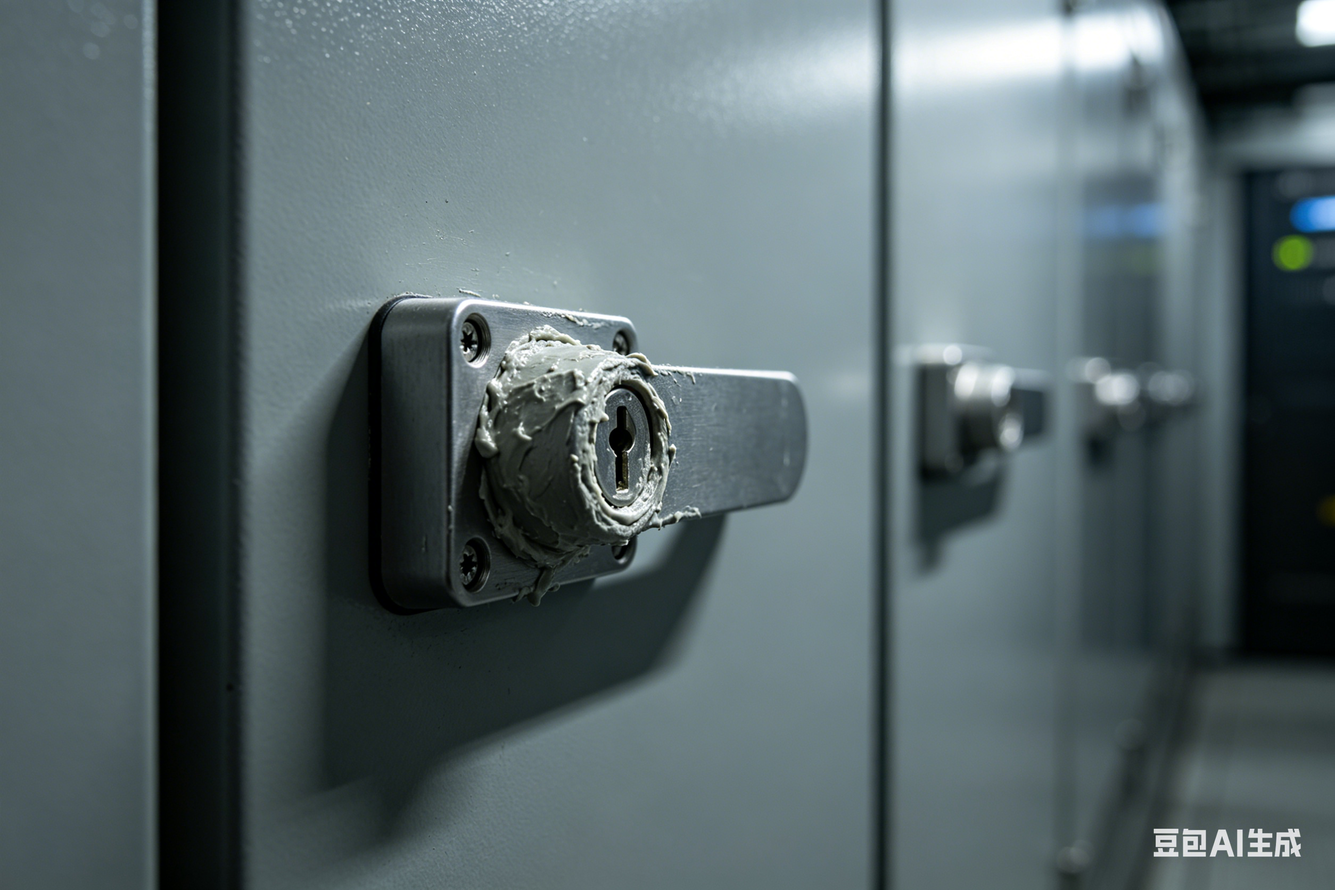BadLock: (491, 330, 667, 573)
